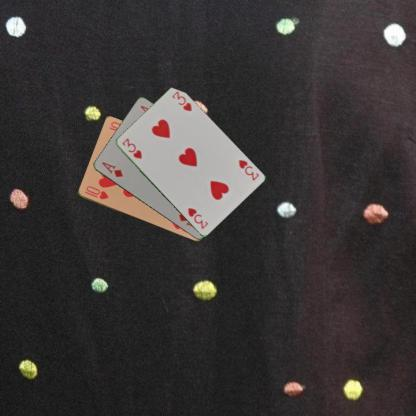10h: (82, 183, 110, 201)
3h: (119, 135, 143, 160), (236, 157, 260, 182)
Ad: (100, 160, 124, 178)
